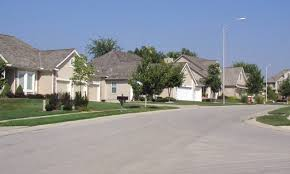strada: (14, 104, 273, 174)
